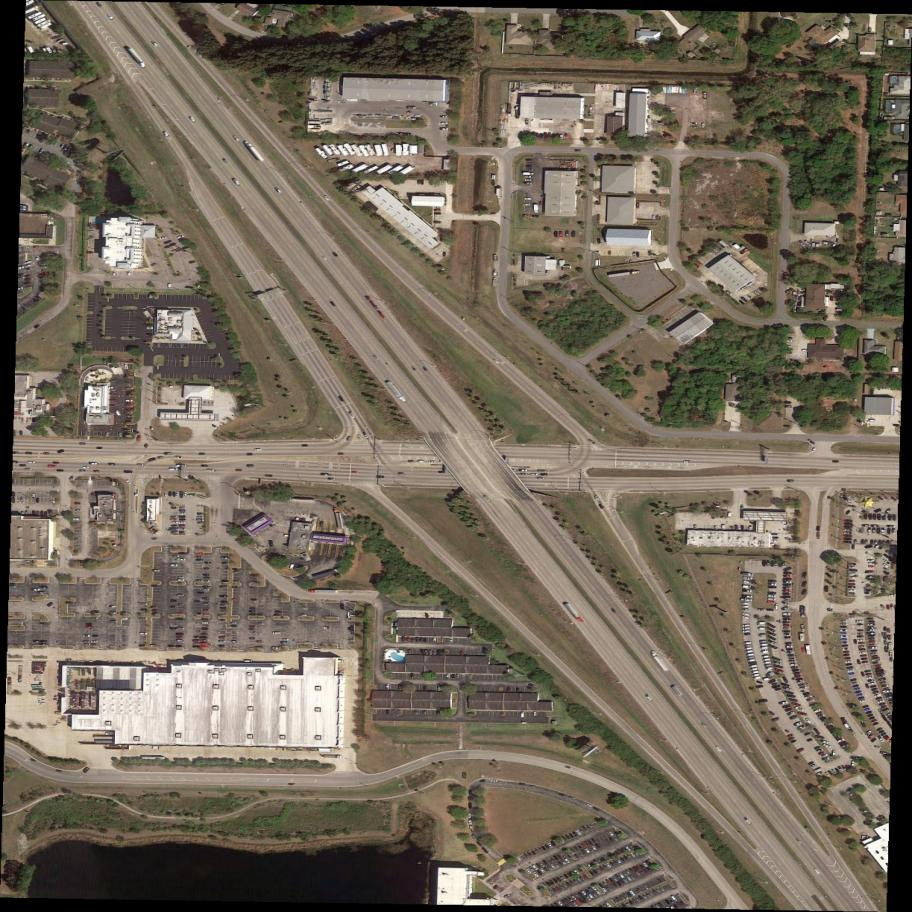large-vehicle: (386, 378, 410, 404), (243, 139, 265, 164), (649, 649, 670, 674), (565, 602, 585, 625), (127, 47, 147, 70), (608, 269, 641, 279), (333, 507, 345, 529), (670, 684, 684, 698), (324, 754, 342, 759), (497, 188, 503, 199), (801, 605, 806, 618), (887, 642, 893, 652), (806, 645, 811, 656), (534, 204, 539, 213), (554, 230, 559, 238), (493, 278, 497, 287), (849, 568, 858, 572), (559, 231, 564, 238), (494, 254, 499, 261), (565, 231, 570, 238), (801, 625, 805, 633), (494, 269, 498, 276), (572, 231, 576, 238), (636, 202, 640, 209), (597, 238, 601, 244), (636, 252, 640, 257), (562, 248, 565, 254), (656, 215, 659, 221), (652, 215, 655, 221), (608, 251, 611, 256), (802, 647, 805, 652), (633, 252, 636, 256)
ship: (822, 241, 837, 248)
small-vehicle: (231, 177, 242, 188), (718, 239, 729, 248), (739, 247, 749, 256), (743, 816, 752, 826), (82, 765, 91, 774), (532, 870, 541, 879), (95, 0, 104, 9), (694, 259, 703, 268), (348, 410, 356, 420), (807, 438, 817, 446), (768, 643, 779, 650), (482, 846, 490, 855), (805, 717, 813, 726), (670, 895, 679, 903), (824, 578, 833, 586), (884, 508, 893, 516), (768, 639, 778, 646), (771, 716, 781, 723), (792, 702, 803, 708), (772, 660, 783, 666), (275, 186, 283, 194), (595, 867, 603, 875), (645, 694, 653, 702), (484, 495, 492, 503), (795, 838, 803, 846), (814, 867, 822, 875), (629, 889, 637, 897), (825, 571, 833, 579), (878, 543, 886, 551), (588, 438, 597, 445), (625, 844, 632, 853), (148, 457, 157, 464), (189, 115, 196, 124), (782, 675, 789, 684), (814, 767, 823, 774), (796, 747, 805, 754), (787, 710, 796, 717), (768, 678, 777, 685), (814, 727, 821, 736), (740, 296, 749, 303), (864, 543, 873, 550), (25, 39, 35, 45), (774, 664, 784, 670), (772, 656, 782, 662), (836, 738, 846, 744), (767, 635, 777, 641), (767, 626, 777, 632), (767, 623, 777, 629), (362, 431, 369, 439), (532, 864, 539, 872), (526, 867, 533, 875), (539, 861, 546, 869), (554, 862, 561, 870), (557, 853, 564, 861), (567, 872, 575, 879), (629, 844, 637, 851), (574, 846, 582, 853), (471, 833, 478, 841), (584, 840, 591, 848), (608, 831, 616, 838), (233, 135, 240, 143), (66, 146, 73, 154), (63, 144, 70, 152), (107, 13, 114, 21), (46, 601, 54, 608), (826, 724, 834, 731), (839, 741, 847, 748), (837, 765, 844, 773), (716, 746, 723, 754), (30, 757, 37, 765), (717, 283, 725, 290), (725, 290, 733, 297), (693, 262, 700, 270), (595, 890, 603, 897), (585, 894, 592, 902), (572, 900, 579, 908), (658, 886, 666, 893), (645, 859, 652, 867), (825, 565, 832, 573), (782, 600, 790, 607), (801, 588, 808, 596), (880, 603, 887, 611), (883, 559, 891, 566), (775, 668, 784, 674), (796, 706, 805, 712), (784, 707, 793, 713), (878, 677, 887, 683), (482, 646, 488, 655), (116, 408, 122, 417), (878, 735, 884, 744), (798, 711, 808, 716), (822, 744, 832, 749), (746, 652, 756, 657), (332, 251, 339, 258), (330, 301, 337, 308), (373, 305, 380, 312), (365, 295, 372, 302), (369, 300, 376, 307), (373, 355, 380, 362), (338, 395, 345, 402), (346, 435, 353, 442), (545, 880, 552, 887), (574, 853, 581, 860), (529, 866, 536, 873), (535, 862, 542, 869), (573, 869, 580, 876), (543, 860, 550, 867), (558, 860, 565, 867), (588, 846, 595, 853), (585, 848, 592, 855), (572, 878, 579, 885), (599, 865, 606, 872), (630, 852, 637, 859), (621, 846, 628, 853), (504, 893, 511, 900), (594, 822, 601, 829), (590, 823, 597, 830), (586, 824, 593, 831), (595, 843, 602, 850), (612, 835, 619, 842), (541, 845, 548, 852), (544, 844, 551, 851), (579, 828, 586, 835), (583, 826, 590, 833), (125, 479, 132, 486), (222, 158, 229, 165), (23, 142, 30, 149), (151, 40, 158, 47), (558, 884, 565, 891), (555, 886, 562, 893), (701, 722, 708, 729), (769, 710, 776, 717), (805, 241, 812, 248), (799, 240, 806, 247), (754, 290, 761, 297), (740, 285, 747, 292), (716, 244, 723, 251), (669, 898, 676, 905), (608, 877, 615, 884), (602, 887, 609, 894), (577, 891, 584, 898), (591, 885, 598, 892), (581, 889, 588, 896), (570, 894, 577, 901), (557, 900, 564, 907), (614, 874, 621, 881), (655, 888, 662, 895), (613, 899, 620, 906), (615, 896, 622, 903), (623, 893, 630, 900), (619, 879, 626, 886), (629, 874, 636, 881), (640, 869, 647, 876), (632, 866, 639, 873), (845, 509, 852, 516), (468, 818, 474, 826), (586, 803, 594, 809), (163, 130, 169, 138), (861, 720, 867, 728), (866, 730, 872, 738), (810, 703, 818, 709), (790, 714, 798, 720), (794, 721, 802, 727), (797, 725, 805, 731), (122, 428, 134, 432), (859, 698, 867, 704), (867, 712, 875, 718), (746, 281, 754, 287), (711, 247, 719, 253), (742, 572, 754, 576), (602, 880, 608, 888), (638, 894, 644, 902), (606, 901, 612, 909), (620, 894, 626, 902), (743, 612, 751, 618), (874, 508, 882, 514), (784, 566, 792, 572), (882, 563, 890, 569), (433, 220, 442, 225), (783, 686, 792, 691), (790, 698, 799, 703), (763, 677, 772, 682), (772, 684, 781, 689), (816, 734, 825, 739), (820, 739, 829, 744), (852, 684, 861, 689), (781, 606, 790, 611), (767, 631, 776, 636), (324, 195, 330, 202), (380, 313, 386, 320), (377, 309, 383, 316), (560, 875, 567, 881), (549, 880, 556, 886), (540, 868, 547, 874), (544, 866, 550, 873), (547, 865, 553, 872), (536, 870, 543, 876), (550, 863, 556, 870), (561, 859, 567, 866), (582, 849, 588, 856), (564, 858, 571, 864), (554, 855, 560, 862), (564, 873, 570, 880), (617, 858, 623, 865), (569, 878, 575, 885), (576, 876, 582, 883), (579, 875, 585, 882), (603, 864, 609, 871), (606, 862, 612, 869), (634, 850, 640, 857), (615, 850, 621, 857), (617, 849, 624, 855), (594, 860, 600, 867), (591, 861, 597, 868), (493, 884, 499, 891), (476, 841, 483, 847), (570, 795, 577, 801), (598, 503, 604, 510), (594, 495, 600, 502), (608, 837, 615, 843), (517, 856, 523, 863), (527, 851, 533, 858), (538, 846, 544, 853), (551, 840, 557, 847), (565, 834, 571, 841), (60, 143, 66, 150), (39, 148, 45, 155), (21, 306, 28, 312), (33, 298, 40, 304), (35, 295, 42, 301), (286, 562, 292, 569), (566, 880, 572, 887), (844, 723, 850, 730), (870, 737, 877, 743), (820, 716, 827, 722), (841, 764, 847, 771), (835, 767, 841, 774), (831, 768, 837, 775), (810, 763, 817, 769), (787, 733, 794, 739), (822, 753, 829, 759), (814, 745, 821, 751), (883, 707, 890, 713), (876, 695, 883, 701), (883, 734, 890, 740), (491, 180, 497, 187), (882, 715, 888, 722), (739, 299, 746, 305), (747, 294, 754, 300), (710, 249, 717, 255), (702, 92, 708, 99), (676, 901, 683, 907), (658, 901, 664, 908), (613, 881, 619, 888), (605, 878, 611, 885), (598, 883, 605, 889), (593, 892, 599, 899), (589, 893, 595, 900), (579, 898, 585, 905), (588, 887, 594, 894), (585, 888, 591, 895), (567, 896, 574, 902), (554, 902, 561, 908), (619, 873, 625, 880), (623, 871, 629, 878), (642, 894, 649, 900), (646, 892, 652, 899), (644, 884, 650, 891), (657, 878, 664, 884), (636, 864, 642, 871), (629, 867, 635, 874), (802, 572, 808, 579), (891, 496, 898, 502), (874, 544, 880, 551), (351, 470, 359, 475), (124, 470, 134, 474), (57, 449, 65, 454), (169, 242, 177, 247), (164, 240, 172, 245), (25, 263, 33, 268), (65, 601, 75, 605), (781, 682, 791, 686), (875, 745, 883, 750), (881, 751, 889, 756), (813, 709, 821, 714), (806, 697, 814, 702), (805, 694, 813, 699), (756, 680, 764, 685), (754, 675, 762, 680), (782, 704, 790, 709), (875, 669, 885, 673), (874, 693, 882, 698), (320, 520, 325, 528), (881, 690, 891, 694), (855, 690, 863, 695), (844, 656, 852, 661), (858, 695, 866, 700), (864, 669, 872, 674), (742, 581, 752, 585), (882, 567, 890, 572), (422, 366, 428, 372), (562, 883, 568, 889), (411, 365, 417, 371), (556, 876, 562, 882), (553, 878, 559, 884), (571, 871, 577, 877), (589, 870, 595, 876), (609, 861, 615, 867), (613, 860, 619, 866), (623, 855, 629, 861), (626, 854, 632, 860), (588, 863, 594, 869), (570, 848, 576, 854), (594, 806, 600, 812), (579, 845, 585, 851), (611, 608, 617, 614), (582, 843, 588, 849), (588, 840, 594, 846), (591, 838, 597, 844), (523, 853, 529, 859), (562, 835, 568, 841), (573, 831, 579, 837), (576, 830, 582, 836), (83, 634, 92, 638), (28, 144, 34, 150), (177, 603, 186, 607), (149, 644, 158, 648), (784, 691, 793, 695), (758, 627, 767, 631), (868, 734, 874, 740), (828, 770, 834, 776), (752, 673, 761, 677), (751, 667, 760, 671), (805, 731, 811, 737), (817, 748, 823, 754), (819, 751, 825, 757), (872, 658, 881, 662), (877, 672, 886, 676), (55, 770, 64, 774), (851, 730, 857, 736), (679, 900, 685, 906), (665, 899, 671, 905), (811, 447, 817, 453), (632, 898, 638, 904), (576, 900, 582, 906), (617, 881, 623, 887), (606, 886, 612, 892), (574, 893, 580, 899), (553, 888, 559, 894), (612, 876, 618, 882), (637, 887, 643, 893), (623, 878, 629, 884), (626, 876, 632, 882), (636, 871, 642, 877), (865, 570, 874, 574), (844, 519, 853, 523), (784, 571, 793, 575), (844, 534, 853, 538), (535, 132, 540, 139), (415, 710, 420, 717), (424, 648, 429, 655), (420, 649, 425, 656), (437, 685, 442, 692), (462, 772, 467, 779), (562, 852, 567, 859), (569, 832, 574, 839), (136, 435, 141, 442), (40, 510, 45, 517), (189, 260, 196, 265), (124, 363, 129, 370), (24, 274, 31, 279), (290, 563, 295, 570), (269, 540, 274, 547), (829, 727, 836, 732), (818, 714, 825, 719), (817, 771, 824, 776), (788, 737, 795, 742), (807, 738, 814, 743), (877, 727, 884, 732), (875, 666, 882, 671), (881, 705, 888, 710), (878, 699, 885, 704), (516, 687, 521, 694), (857, 693, 864, 698), (864, 707, 871, 712), (866, 710, 873, 715), (887, 720, 892, 727), (866, 676, 873, 681), (853, 638, 858, 645), (712, 512, 717, 519), (727, 512, 732, 519), (720, 512, 725, 519), (829, 295, 834, 302), (627, 891, 632, 898), (647, 866, 652, 873), (802, 581, 807, 588), (883, 570, 890, 575), (884, 496, 891, 501), (881, 514, 886, 521), (770, 560, 775, 567), (691, 122, 699, 126), (283, 543, 291, 547), (83, 640, 91, 644), (429, 460, 437, 464), (145, 323, 153, 327), (171, 605, 179, 609), (249, 637, 257, 641), (202, 603, 210, 607), (152, 611, 160, 615), (221, 556, 229, 560), (91, 610, 99, 614), (785, 645, 793, 649), (759, 633, 767, 637), (803, 692, 811, 696), (797, 680, 805, 684), (761, 646, 769, 650), (759, 699, 767, 703), (752, 671, 760, 675), (750, 665, 758, 669), (762, 655, 770, 659), (762, 658, 770, 662), (764, 661, 772, 665), (877, 675, 885, 679), (872, 690, 880, 694), (843, 653, 851, 657), (846, 666, 854, 670), (847, 670, 855, 674), (850, 678, 858, 682), (862, 705, 870, 709), (867, 678, 875, 682), (861, 657, 869, 661), (860, 654, 868, 658), (747, 656, 755, 660), (741, 524, 745, 532), (767, 608, 775, 612), (745, 647, 753, 651), (888, 594, 896, 598), (694, 88, 699, 94), (442, 251, 447, 257), (538, 470, 548, 473), (526, 159, 536, 162), (296, 518, 301, 524), (244, 660, 254, 663), (401, 636, 406, 642), (579, 851, 584, 857), (583, 873, 588, 879), (593, 869, 598, 875), (598, 858, 603, 864), (507, 469, 517, 472), (592, 845, 597, 851), (606, 838, 611, 844), (532, 850, 537, 856), (535, 848, 540, 854), (549, 843, 554, 849), (169, 468, 179, 471), (19, 430, 24, 436), (125, 388, 135, 391), (280, 641, 290, 644), (791, 739, 797, 744), (808, 761, 814, 766), (785, 729, 791, 734), (881, 732, 887, 737), (890, 603, 895, 609), (507, 687, 512, 693), (872, 687, 878, 692), (849, 672, 855, 677), (842, 717, 847, 723), (861, 671, 866, 677), (784, 348, 794, 351), (743, 577, 753, 580), (629, 899, 634, 905), (635, 897, 641, 902), (565, 897, 570, 903), (561, 899, 566, 905), (644, 862, 649, 868), (757, 622, 767, 625), (878, 496, 884, 501), (884, 554, 890, 559), (544, 132, 548, 139), (548, 132, 552, 139), (540, 132, 544, 139), (532, 132, 536, 139), (684, 460, 691, 464), (386, 684, 390, 691), (93, 634, 100, 638), (437, 649, 441, 656), (519, 783, 526, 787), (180, 491, 184, 498), (44, 511, 48, 518), (177, 235, 184, 239), (24, 281, 31, 285), (204, 609, 211, 613), (218, 644, 225, 648), (202, 627, 209, 631), (170, 515, 177, 519), (220, 585, 227, 589), (868, 27, 872, 34), (784, 632, 791, 636), (872, 722, 879, 726), (816, 712, 823, 716), (800, 686, 807, 690), (792, 669, 799, 673), (823, 757, 830, 761), (775, 687, 782, 691), (782, 701, 789, 705), (878, 730, 885, 734), (880, 702, 887, 706), (881, 685, 888, 689), (845, 660, 852, 664), (851, 681, 858, 685), (854, 687, 861, 691), (871, 718, 878, 722), (869, 682, 876, 686), (860, 651, 867, 655), (722, 524, 726, 531), (714, 525, 718, 532), (743, 616, 750, 620), (864, 513, 868, 520), (888, 514, 892, 521), (873, 513, 877, 520), (817, 532, 821, 539), (877, 527, 881, 534), (520, 473, 529, 476), (283, 534, 292, 537), (164, 452, 173, 455), (89, 462, 98, 465), (48, 465, 57, 468), (265, 475, 274, 478), (41, 266, 50, 269), (177, 594, 186, 597), (273, 647, 282, 650), (177, 528, 186, 531), (110, 611, 119, 614), (151, 606, 160, 609), (176, 618, 185, 621), (195, 579, 204, 582), (177, 579, 186, 582), (177, 558, 186, 561), (219, 595, 228, 598), (90, 617, 99, 620), (202, 586, 211, 589), (32, 588, 41, 591), (787, 695, 796, 698), (755, 685, 764, 688), (749, 662, 758, 665), (765, 667, 774, 670), (858, 642, 867, 645), (840, 626, 849, 629), (784, 351, 793, 354), (787, 480, 796, 483), (868, 419, 877, 422), (743, 585, 752, 588), (848, 563, 857, 566), (783, 581, 792, 584), (767, 598, 776, 601), (887, 525, 896, 528), (436, 709, 441, 714), (620, 857, 625, 862), (52, 499, 57, 504), (825, 772, 830, 777), (105, 432, 110, 437), (436, 181, 441, 186), (556, 133, 560, 139), (560, 134, 564, 140), (691, 126, 699, 129), (421, 179, 425, 185), (441, 128, 449, 131), (436, 228, 444, 231), (524, 182, 532, 185), (525, 179, 533, 182), (526, 165, 534, 168), (411, 673, 415, 679), (302, 518, 306, 524), (429, 650, 433, 656), (377, 476, 385, 479), (321, 473, 329, 476), (341, 604, 345, 610), (406, 636, 410, 642), (433, 637, 437, 643), (559, 793, 565, 797), (470, 826, 474, 832), (468, 803, 472, 809), (469, 789, 473, 795), (530, 785, 536, 789), (491, 780, 499, 783), (521, 712, 525, 718), (254, 448, 262, 451), (174, 456, 182, 459), (93, 470, 101, 473), (70, 476, 74, 482), (25, 468, 33, 471), (28, 461, 36, 464), (73, 518, 81, 521), (25, 452, 33, 455), (151, 263, 157, 267), (128, 270, 132, 276), (113, 271, 117, 277), (125, 405, 133, 408), (109, 386, 117, 389), (42, 263, 50, 266), (25, 278, 31, 282), (218, 640, 226, 643), (300, 614, 308, 617), (274, 632, 282, 635), (201, 618, 209, 621), (201, 633, 209, 636), (177, 633, 185, 636), (192, 639, 200, 642), (275, 610, 283, 613), (196, 559, 204, 562), (172, 555, 180, 558), (196, 519, 204, 522), (171, 530, 177, 534), (249, 613, 257, 616), (251, 574, 259, 577), (109, 605, 117, 608), (250, 586, 258, 589), (233, 586, 241, 589), (39, 591, 47, 594), (40, 586, 48, 589), (783, 618, 791, 621), (782, 615, 790, 618), (789, 657, 797, 660), (761, 643, 769, 646), (793, 672, 801, 675), (833, 751, 837, 757), (772, 682, 778, 686), (867, 632, 875, 635), (872, 655, 878, 659), (869, 637, 875, 641), (868, 629, 876, 632), (119, 432, 123, 438), (447, 179, 451, 185), (889, 651, 893, 657), (887, 627, 891, 633), (869, 685, 877, 688), (846, 663, 854, 666), (866, 683, 870, 689), (841, 641, 849, 644), (857, 659, 861, 665), (859, 648, 867, 651), (857, 620, 865, 623), (840, 623, 848, 626), (840, 629, 848, 632), (840, 632, 848, 635), (701, 122, 705, 128), (771, 533, 779, 536), (721, 509, 729, 512), (784, 405, 792, 408), (784, 401, 792, 404), (745, 595, 753, 598), (746, 650, 754, 653), (759, 609, 767, 612), (768, 601, 776, 604), (783, 587, 791, 590), (744, 633, 752, 636), (743, 630, 751, 633), (867, 559, 875, 562), (848, 589, 856, 592), (848, 586, 856, 589), (783, 578, 791, 581), (783, 575, 791, 578), (845, 523, 853, 526), (775, 561, 779, 567), (768, 595, 776, 598), (769, 583, 777, 586), (844, 532, 852, 535), (887, 528, 891, 534), (881, 528, 885, 534), (872, 528, 876, 534), (868, 528, 872, 534), (861, 539, 865, 545), (523, 173, 534, 175), (526, 118, 529, 125), (441, 122, 448, 125), (434, 209, 441, 212), (435, 212, 442, 215), (337, 660, 344, 663), (91, 643, 98, 646), (438, 471, 445, 474), (418, 460, 425, 463), (398, 472, 405, 475), (289, 783, 296, 786), (86, 623, 93, 626), (109, 463, 116, 466), (57, 469, 64, 472), (83, 466, 90, 469), (43, 452, 50, 455), (180, 512, 187, 515), (247, 453, 254, 456), (187, 494, 194, 497), (75, 509, 82, 512), (247, 464, 254, 467), (126, 417, 133, 420), (160, 237, 167, 240), (126, 414, 133, 417), (110, 404, 117, 407), (110, 399, 117, 402), (110, 389, 117, 392), (126, 400, 133, 403), (127, 390, 134, 393), (147, 327, 154, 330), (25, 261, 32, 264), (179, 524, 186, 527), (177, 612, 184, 615), (170, 599, 177, 602), (201, 643, 208, 646), (255, 646, 262, 649), (220, 619, 227, 622), (282, 638, 289, 641), (121, 612, 128, 615), (151, 609, 158, 612), (170, 627, 177, 630), (201, 639, 208, 642), (139, 644, 146, 647), (194, 636, 201, 639), (193, 643, 200, 646), (249, 625, 256, 628), (231, 625, 238, 628), (171, 564, 178, 567), (203, 576, 210, 579), (230, 622, 237, 625), (179, 552, 186, 555), (172, 521, 179, 524), (171, 524, 178, 527), (220, 607, 227, 610), (221, 601, 228, 604), (257, 614, 264, 617), (250, 610, 257, 613), (40, 622, 47, 625), (783, 627, 790, 630), (783, 624, 790, 627), (789, 661, 796, 664), (795, 678, 802, 681), (795, 675, 802, 678), (791, 666, 798, 669), (790, 663, 797, 666), (760, 640, 767, 643), (852, 761, 855, 768), (871, 650, 878, 653), (869, 634, 876, 637), (868, 623, 875, 626), (849, 613, 856, 616), (880, 682, 887, 685), (884, 633, 887, 640), (843, 648, 850, 651), (869, 717, 876, 720), (842, 644, 849, 647), (841, 638, 848, 641), (862, 661, 869, 664), (858, 639, 865, 642), (858, 633, 865, 636), (849, 617, 856, 620), (784, 345, 791, 348), (749, 525, 752, 532), (832, 460, 839, 463), (893, 424, 900, 427), (743, 624, 750, 627), (742, 602, 749, 605), (776, 604, 779, 611), (849, 566, 856, 569), (850, 573, 857, 576), (881, 588, 888, 591), (746, 644, 753, 647), (745, 642, 752, 645), (868, 562, 875, 565), (865, 589, 872, 592), (864, 592, 871, 595), (849, 582, 856, 585), (893, 514, 896, 521), (878, 513, 881, 520), (869, 513, 872, 520), (845, 529, 852, 532), (872, 524, 879, 527), (863, 524, 870, 527), (407, 107, 417, 109), (424, 686, 428, 691), (461, 651, 465, 656), (415, 637, 419, 642), (177, 465, 187, 467), (164, 492, 168, 497), (36, 498, 40, 503), (32, 494, 36, 499), (20, 498, 24, 503), (168, 284, 172, 289), (441, 180, 445, 185), (626, 870, 630, 875), (779, 562, 783, 567), (817, 526, 821, 531), (878, 540, 882, 545), (870, 540, 874, 545), (553, 133, 556, 139), (453, 674, 456, 680), (447, 674, 450, 680), (399, 685, 402, 691), (386, 709, 389, 715), (84, 643, 90, 646), (339, 452, 345, 455), (412, 637, 415, 643), (441, 637, 444, 643), (540, 474, 549, 476), (468, 796, 471, 802), (565, 766, 571, 769), (20, 464, 26, 467), (97, 447, 103, 450), (207, 470, 216, 472), (177, 492, 180, 498), (236, 469, 242, 472), (33, 510, 36, 516), (37, 511, 40, 517), (25, 510, 28, 516), (124, 412, 133, 414), (195, 613, 204, 615), (195, 600, 201, 603), (201, 598, 210, 600), (249, 628, 255, 631), (139, 603, 148, 605), (139, 618, 148, 620), (139, 633, 148, 635), (201, 636, 207, 639), (195, 556, 204, 558), (221, 603, 227, 606), (234, 571, 240, 574), (787, 648, 793, 651), (788, 654, 794, 657), (873, 662, 879, 665), (869, 647, 878, 649), (869, 620, 875, 623), (887, 604, 890, 610), (230, 599, 239, 601), (885, 646, 888, 652), (888, 635, 891, 641), (884, 626, 887, 632), (866, 673, 872, 676), (858, 629, 864, 632), (858, 623, 864, 626), (784, 340, 793, 342), (743, 590, 752, 592), (735, 525, 738, 531), (740, 504, 743, 510), (825, 586, 828, 592), (782, 590, 791, 592), (884, 576, 887, 582), (851, 577, 857, 580), (849, 593, 855, 596), (767, 560, 770, 566), (763, 560, 766, 566), (893, 528, 896, 534), (875, 539, 878, 545), (866, 539, 869, 545), (855, 539, 858, 545), (523, 204, 531, 206), (524, 198, 532, 200), (524, 176, 532, 178), (526, 169, 534, 171), (328, 478, 336, 480), (521, 470, 529, 472), (537, 478, 545, 480), (85, 626, 93, 628), (199, 453, 207, 455), (201, 465, 209, 467), (136, 464, 144, 466), (110, 393, 118, 395), (179, 519, 187, 521), (110, 620, 118, 622), (219, 637, 227, 639), (202, 622, 210, 624), (177, 628, 185, 630), (121, 618, 129, 620), (176, 636, 184, 638), (193, 646, 201, 648), (178, 576, 186, 578), (153, 570, 161, 572), (170, 519, 178, 521), (169, 527, 177, 529), (221, 580, 229, 582), (233, 580, 241, 582), (257, 623, 265, 625), (782, 622, 790, 624), (782, 613, 790, 615), (761, 651, 769, 653), (869, 644, 877, 646), (843, 651, 851, 653), (858, 646, 866, 648), (782, 596, 790, 598), (783, 593, 791, 595), (783, 584, 791, 586), (769, 580, 777, 582), (743, 628, 751, 630), (768, 592, 776, 594), (769, 586, 777, 588), (845, 526, 853, 528), (883, 541, 887, 545), (844, 541, 852, 543), (844, 538, 852, 540), (565, 133, 568, 138), (418, 180, 421, 185), (409, 650, 412, 655), (456, 674, 459, 679), (424, 710, 427, 715), (433, 651, 436, 656), (420, 637, 423, 642), (450, 638, 453, 643), (468, 813, 471, 818), (534, 712, 537, 717), (694, 524, 697, 529), (145, 443, 148, 448), (173, 491, 176, 496), (169, 491, 172, 496), (37, 256, 40, 261), (110, 426, 113, 431), (890, 657, 893, 662), (884, 640, 887, 645), (626, 901, 629, 906), (852, 545, 855, 550), (441, 116, 448, 118), (349, 639, 356, 641), (92, 641, 99, 643), (302, 445, 309, 447), (531, 474, 538, 476), (479, 780, 486, 782), (157, 457, 164, 459), (80, 470, 87, 472), (53, 462, 60, 464), (179, 522, 186, 524), (179, 516, 186, 518), (179, 510, 186, 512), (179, 507, 186, 509), (125, 421, 132, 423), (126, 409, 133, 411), (126, 403, 133, 405), (201, 646, 208, 648), (231, 641, 238, 643), (324, 627, 331, 629), (274, 614, 281, 616), (168, 645, 175, 647), (177, 640, 184, 642), (176, 645, 183, 647), (204, 580, 211, 582), (203, 574, 210, 576), (205, 562, 212, 564), (198, 553, 205, 555), (197, 516, 204, 518), (197, 513, 204, 515), (220, 610, 227, 612), (784, 631, 791, 633), (765, 665, 772, 667), (875, 665, 882, 667), (869, 641, 876, 643), (868, 627, 875, 629), (867, 618, 874, 620), (841, 636, 848, 638), (857, 636, 864, 638), (786, 337, 793, 339), (772, 537, 779, 539), (746, 599, 753, 601), (868, 566, 875, 568), (849, 580, 856, 582), (424, 638, 427, 642), (80, 443, 86, 445), (184, 492, 187, 496), (75, 503, 81, 505), (34, 246, 40, 248), (198, 592, 204, 594), (257, 641, 263, 643), (204, 568, 210, 570), (198, 522, 204, 524), (179, 531, 185, 533), (221, 562, 227, 564), (251, 599, 257, 601), (204, 589, 210, 591), (785, 642, 791, 644), (784, 636, 790, 638), (787, 652, 793, 654), (872, 653, 878, 655), (749, 660, 755, 662), (797, 290, 800, 294), (743, 606, 749, 608), (887, 541, 890, 545), (408, 460, 413, 462), (172, 507, 177, 509), (783, 562, 785, 567), (250, 608, 256, 609)
